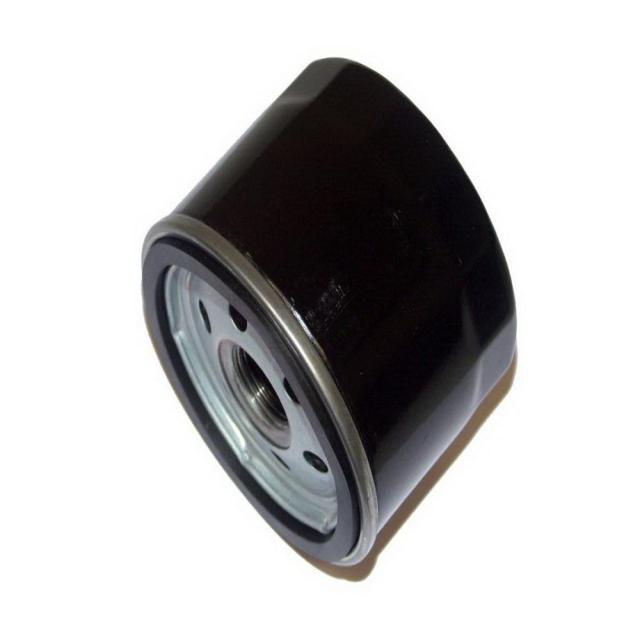oil_filter: (125, 51, 528, 596)
